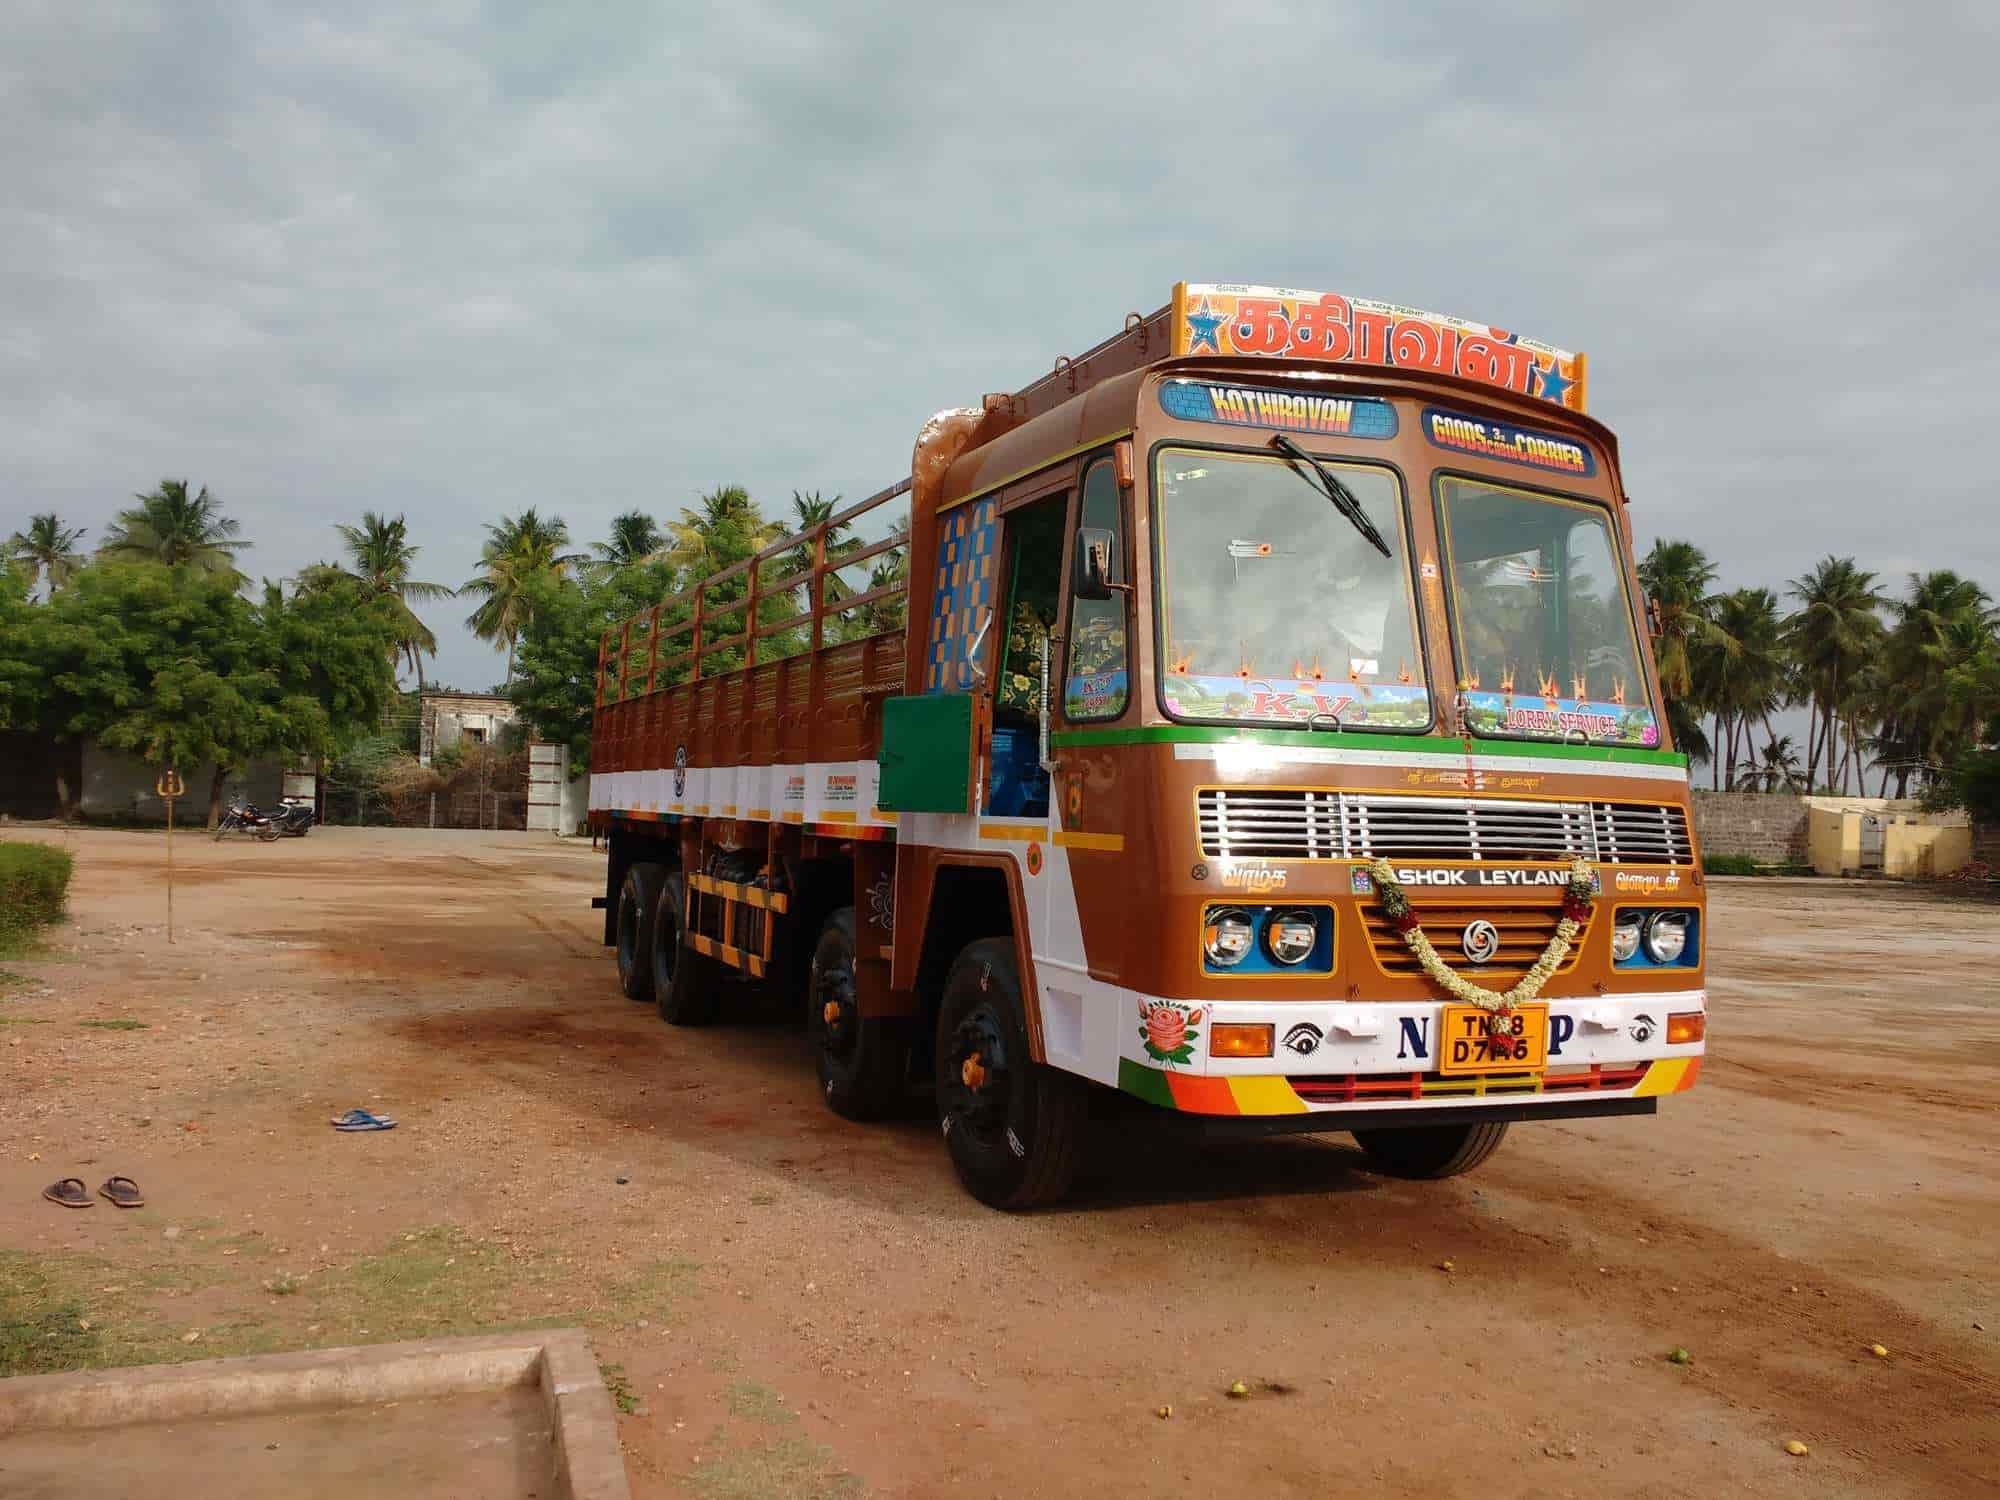motorbike: (213, 793, 282, 841)
truck: (587, 280, 1712, 1213)
